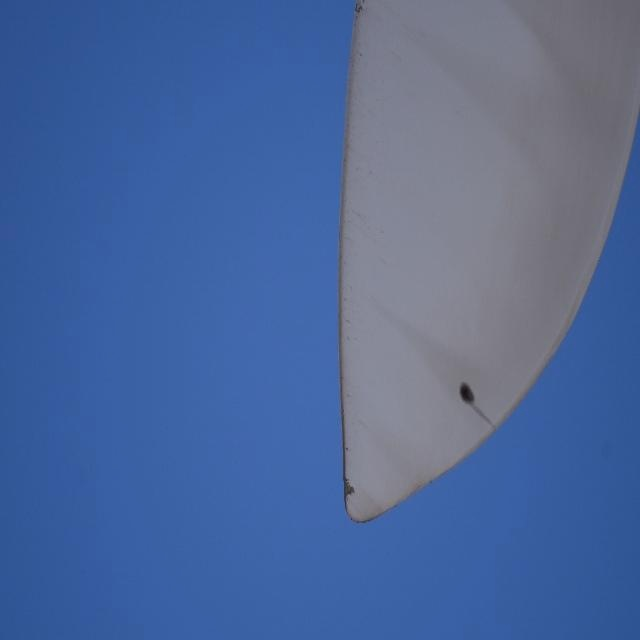Burn Mark: (457, 379, 479, 413)
EROSION: (335, 394, 357, 510), (347, 0, 369, 24)
